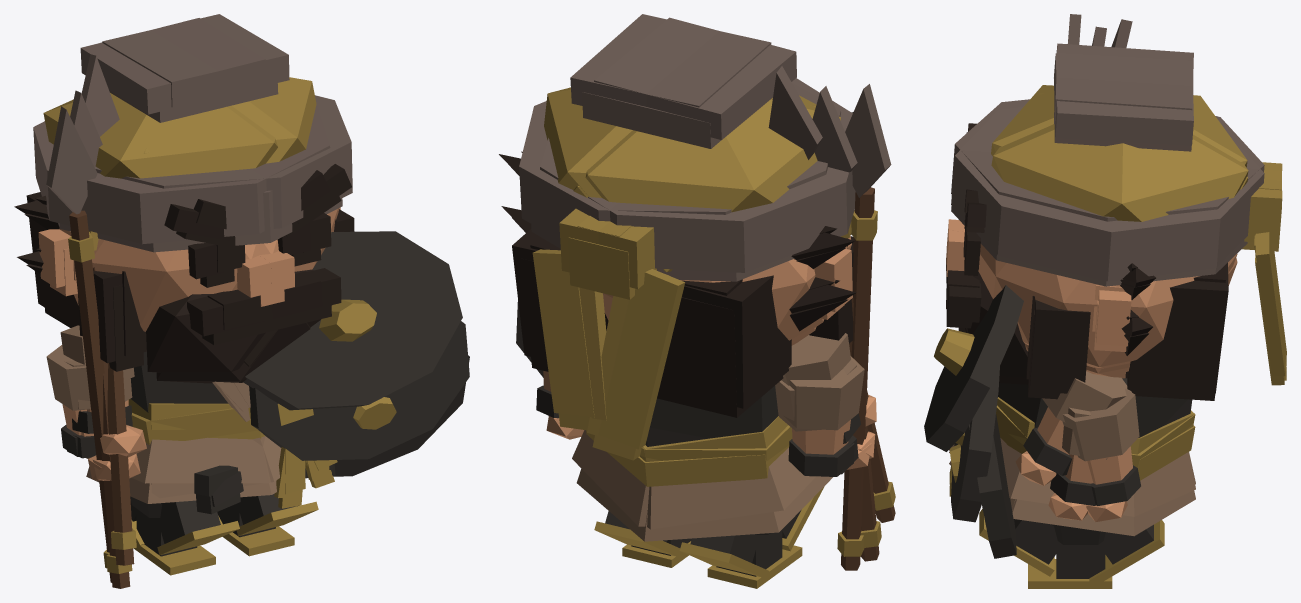
The model's file is yt_shield_chibi_poses.glb.
3 views of the same model, side by side, from view 1: azimuth 30°, elevation 25°; view 2: azimuth 150°, elevation 25°; view 3: azimuth 270°, elevation 25° (orthographic). The views are drawn at different scales.
Visible parts, largest first — view 1: pose_1, pose_3, pose_0; view 2: pose_1, pose_3, pose_0; view 3: pose_3, pose_1, pose_0.
Part boxes in pixels (x1=…): pose_1: x1=14, y1=18, x2=462, y2=582; pose_3: x1=35, y1=14, x2=469, y2=565; pose_0: x1=24, y1=83, x2=469, y2=588; pose_1: x1=521, y1=17, x2=891, y2=579; pose_3: x1=499, y1=14, x2=895, y2=558; pose_0: x1=511, y1=86, x2=881, y2=588; pose_3: x1=946, y1=19, x2=1286, y2=581; pose_1: x1=924, y1=14, x2=1286, y2=576; pose_0: x1=946, y1=26, x2=1286, y2=588.
Size of the model in its own units: 1.25 by 1.56 by 1.03.
